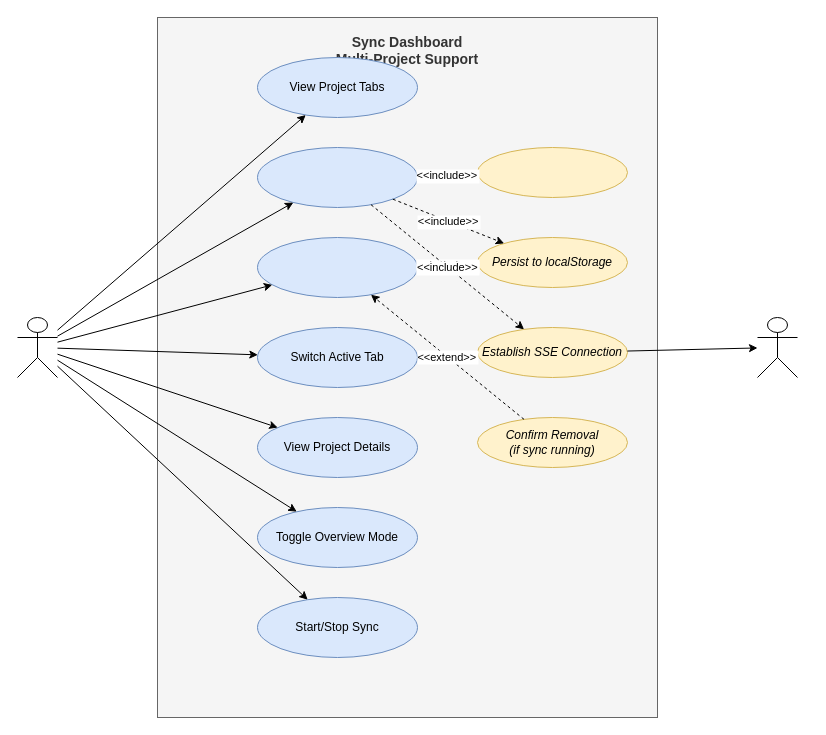
The diagram is 826 pixels wide and 735 high, and some of its shapes have lost their labels. Here are the shapes that lost their labels. From the top down, the box of each, then its label:
(256, 146, 418, 208): Add Project
(476, 146, 628, 198): Validate Project Key
(256, 236, 418, 298): Remove Project
(16, 316, 58, 378): Admin
(756, 316, 798, 378): SSE Server
